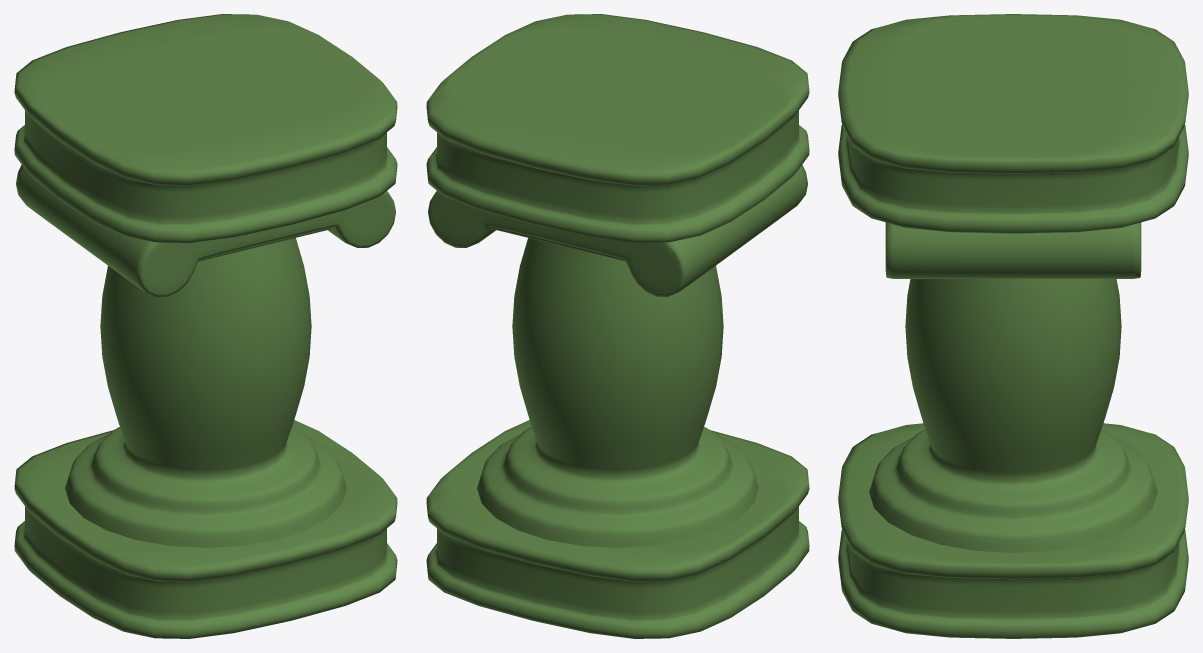
File: Pillar00.fbx
3 renders of one model, left to right at view 1: azimuth 30°, elevation 25°; view 2: azimuth 150°, elevation 25°; view 3: azimuth 270°, elevation 25°, orthographic. The views are drawn at different scales.
Parts seen in each view (by area): view 1: Pillar00; view 2: Pillar00; view 3: Pillar00.
Part boxes in pixels (left/top/right/bottom): Pillar00: left=14, top=14, right=397, bottom=638; Pillar00: left=426, top=14, right=809, bottom=638; Pillar00: left=838, top=14, right=1188, bottom=638.
Size of the model in its own units: 66.29 by 100 by 66.29.
